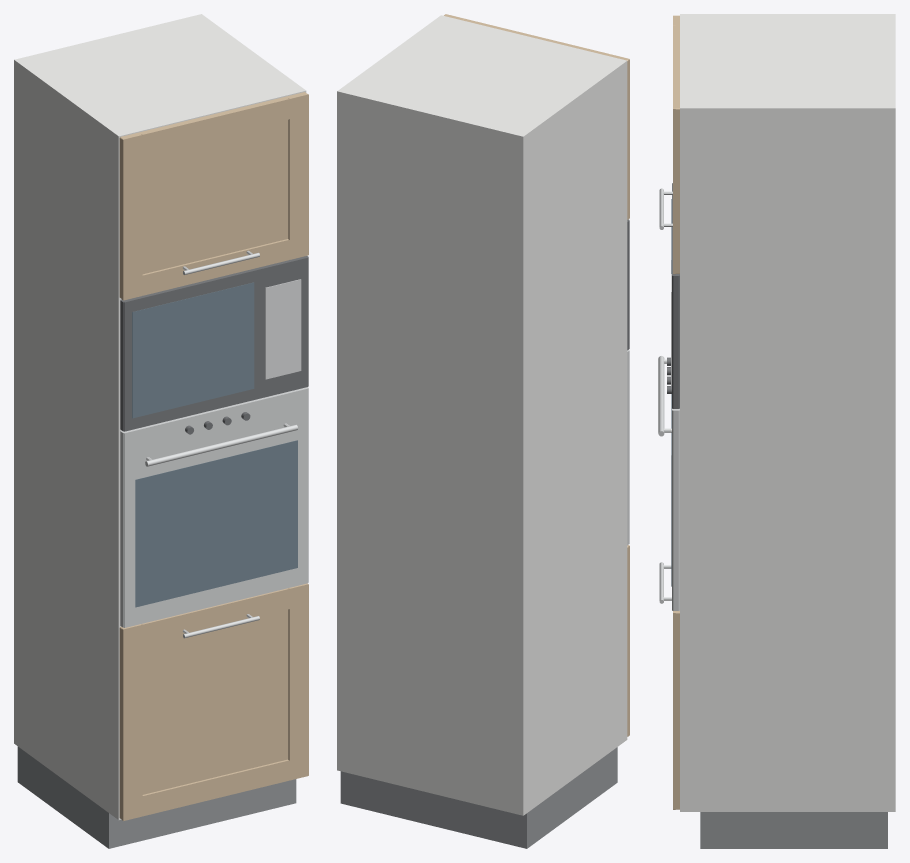
3 views of the same model, side by side, from view 1: azimuth 30°, elevation 25°; view 2: azimuth 150°, elevation 25°; view 3: azimuth 270°, elevation 25° (orthographic). The views are drawn at different scales.
Visible parts, largest first — view 1: Tủ bếp cao Rộng=600; Sâu=600; view 2: Tủ bếp cao Rộng=600; Sâu=600; view 3: Tủ bếp cao Rộng=600; Sâu=600.
Boxes of the visible parts, <box> form: Tủ bếp cao Rộng=600; Sâu=600: <box>14,14,308,848</box>; Tủ bếp cao Rộng=600; Sâu=600: <box>337,14,629,848</box>; Tủ bếp cao Rộng=600; Sâu=600: <box>658,14,895,848</box>.
Bounding box in the file's own units: 0.6 × 2.2 × 0.638.
